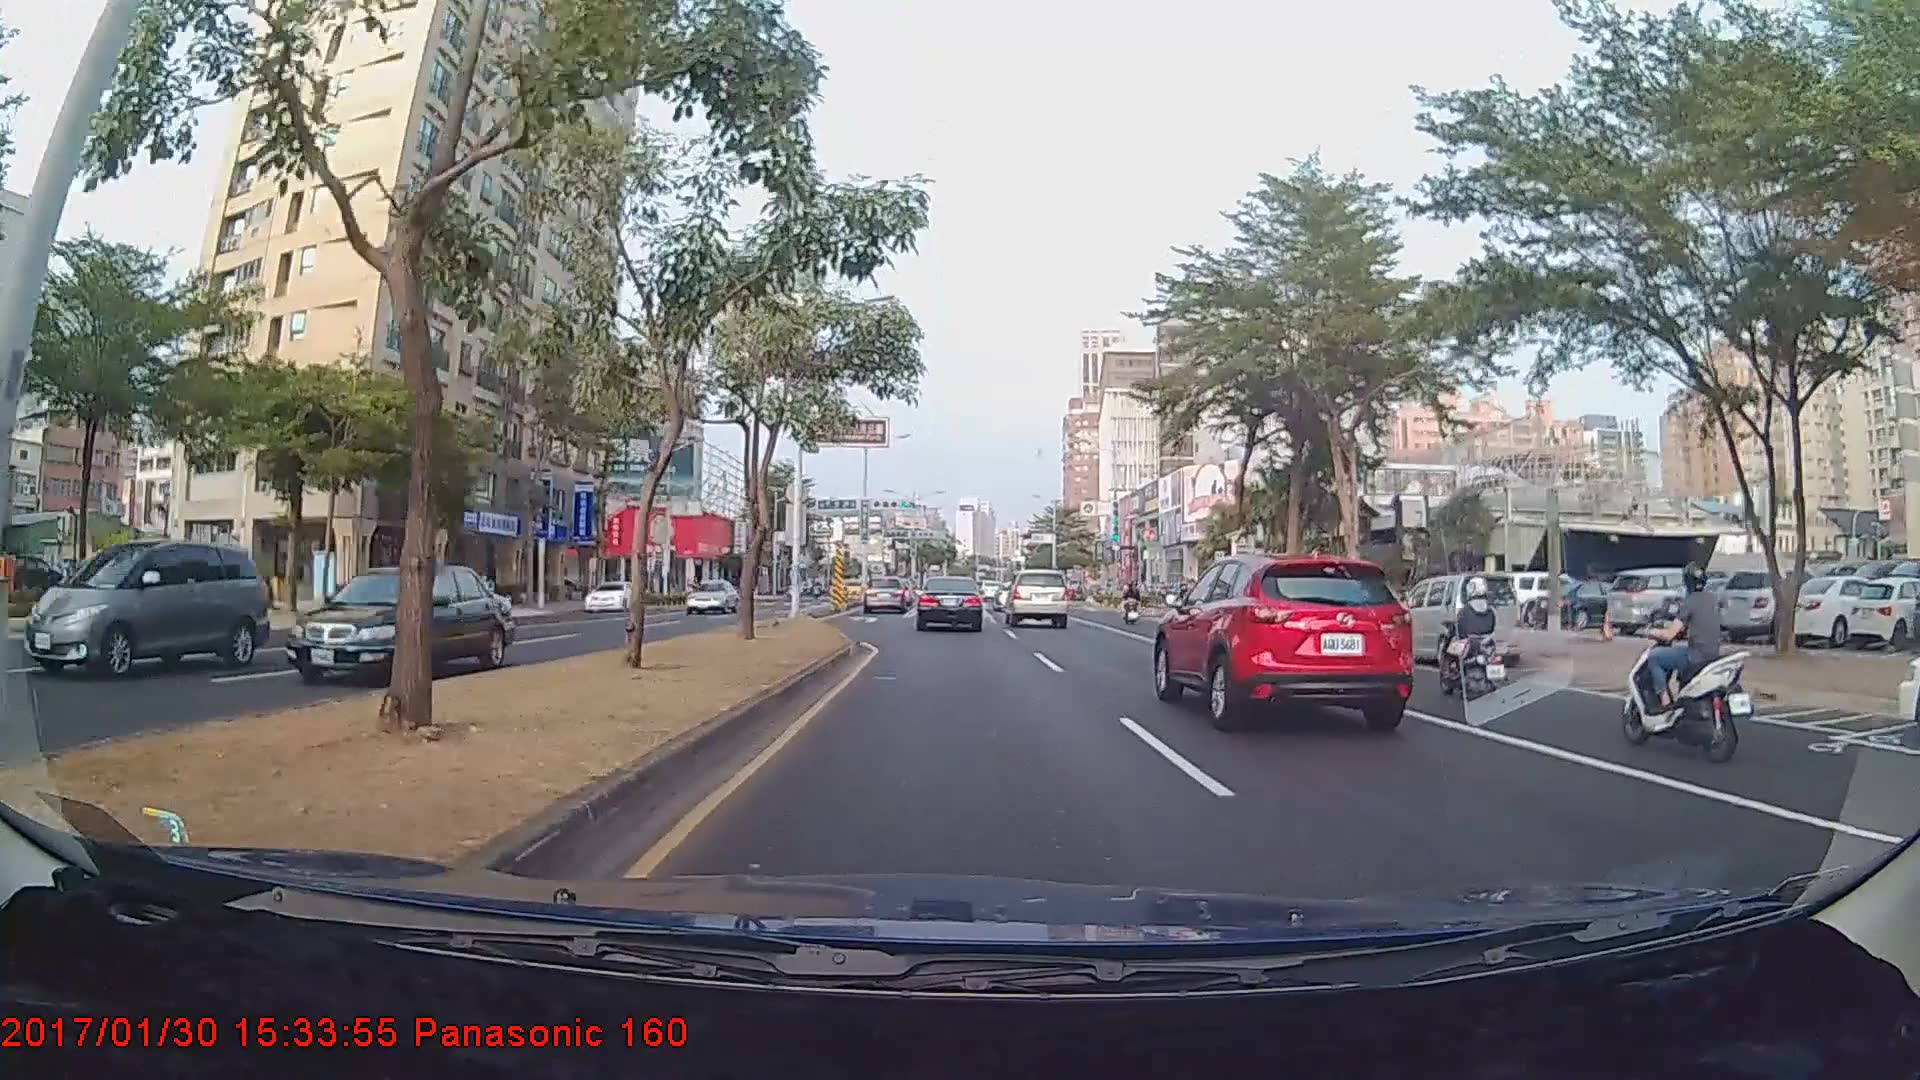rider: (1613, 555, 1762, 763), (1427, 573, 1522, 708), (1123, 586, 1149, 630)
vehicle: (1152, 548, 1412, 729), (23, 539, 269, 680), (283, 561, 512, 683), (1387, 572, 1522, 667), (1602, 568, 1729, 636), (914, 575, 984, 632), (1005, 567, 1069, 628), (583, 578, 641, 614), (683, 578, 739, 616), (861, 575, 911, 615)
